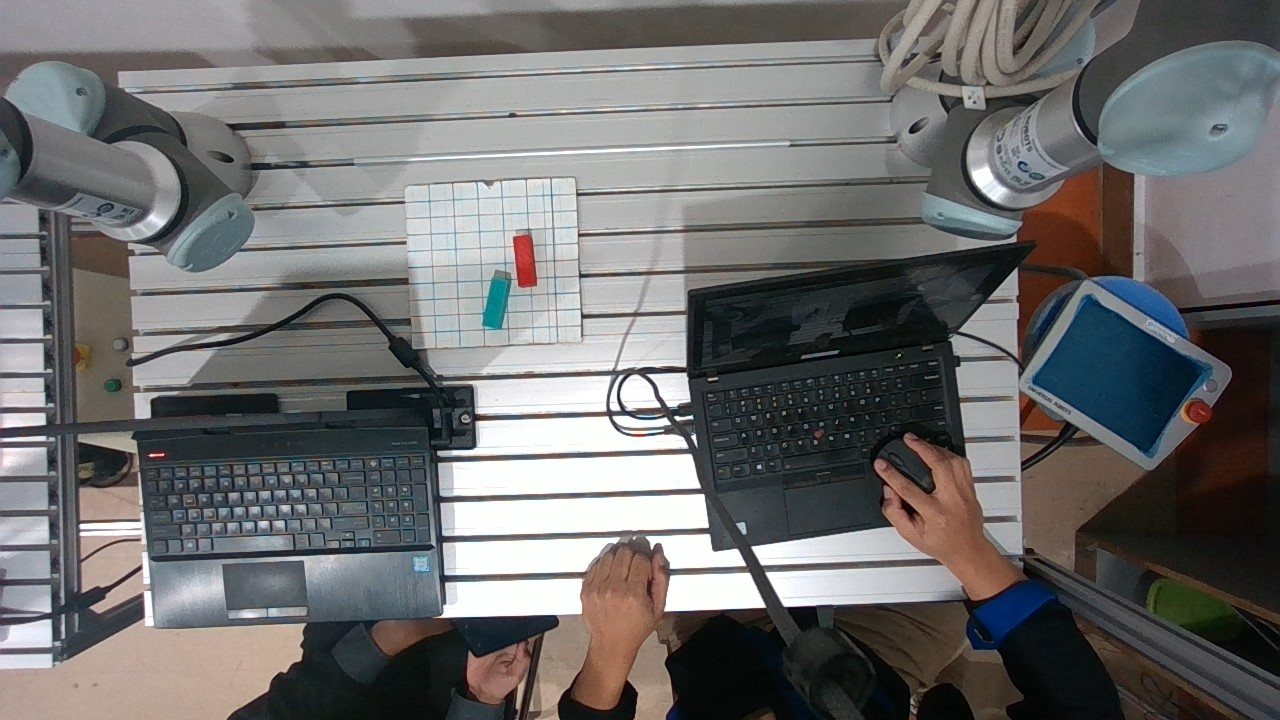box: (503, 230, 545, 288), (483, 262, 513, 334)
